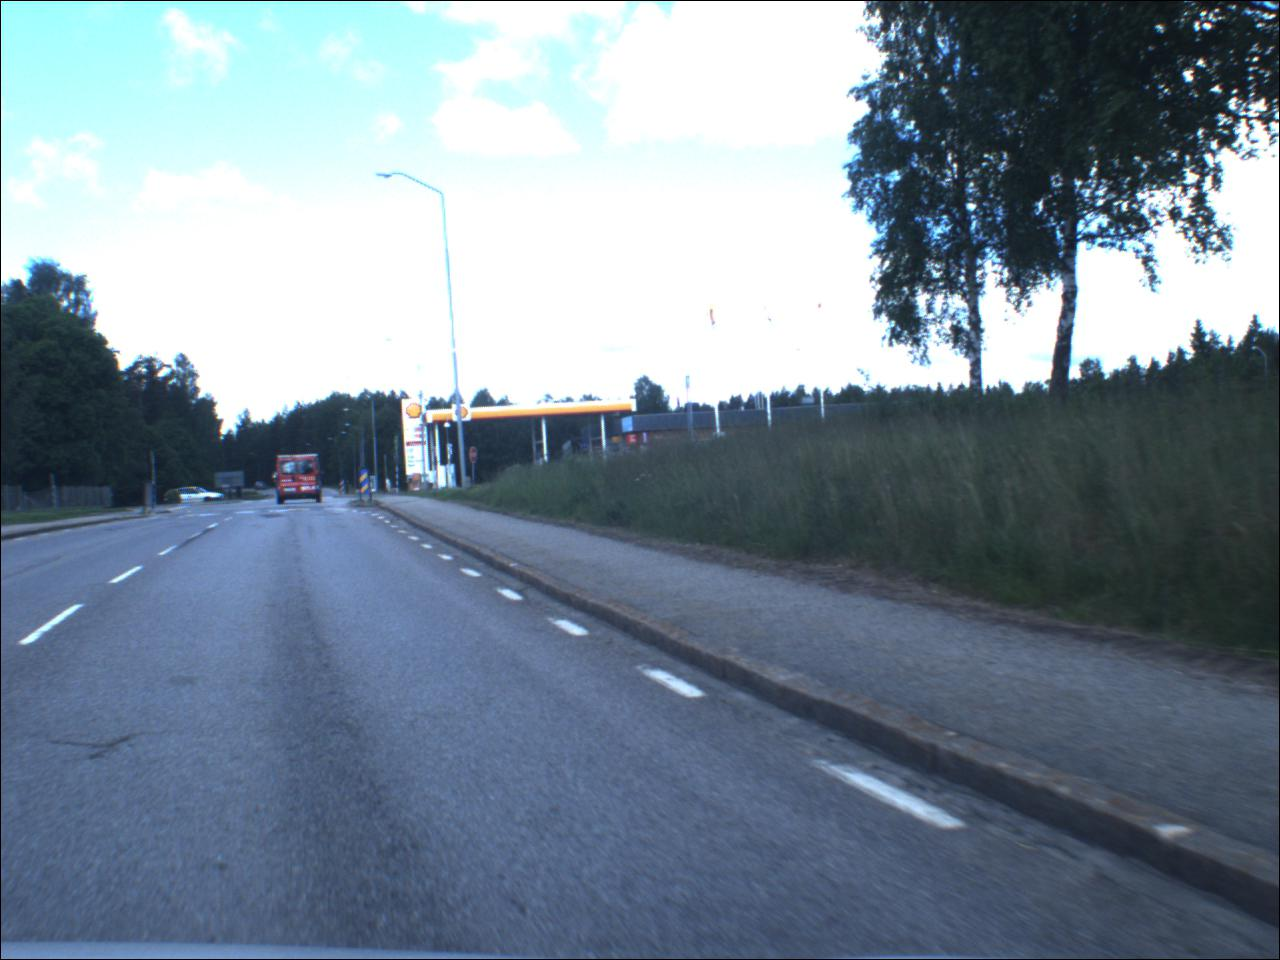STOP: (472, 449, 481, 466)
